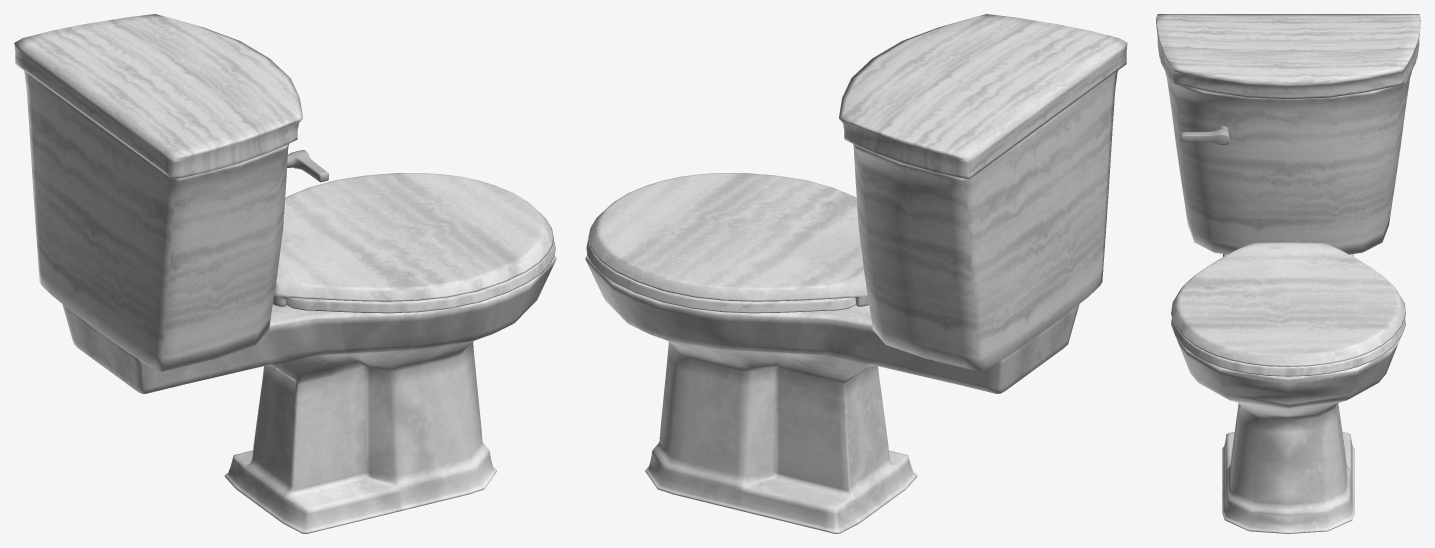
Rendered from Toilet_mat.fbx.
3 renders of one model, left to right at view 1: azimuth 30°, elevation 25°; view 2: azimuth 150°, elevation 25°; view 3: azimuth 270°, elevation 25°, orthographic. The views are drawn at different scales.
Parts seen in each view (by area): view 1: ToiletBack.002; view 2: ToiletBack.002; view 3: ToiletBack.002.
Boxes of the visible parts, <box> form: ToiletBack.002: <box>14,14,556,533</box>; ToiletBack.002: <box>585,14,1127,533</box>; ToiletBack.002: <box>1156,14,1420,533</box>.
Bounding box in the file's own units: 755 × 727 × 473.
